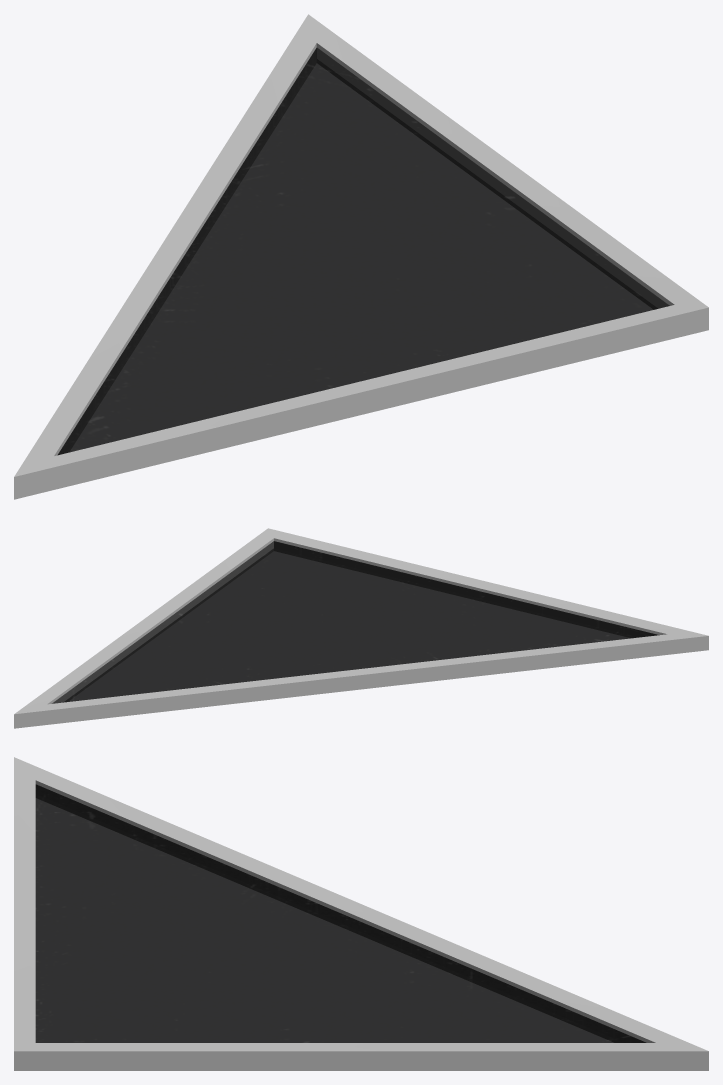
File: glass_2x2_triangle.fbx
3 renders of one model, top to bottom at view 1: azimuth 30°, elevation 25°; view 2: azimuth 150°, elevation 25°; view 3: azimuth 270°, elevation 25°, orthographic. The views are drawn at different scales.
Visible parts, largest first — view 1: glass_2x2_triangle; view 2: glass_2x2_triangle; view 3: glass_2x2_triangle.
Part boxes in pixels (x1=…): glass_2x2_triangle: x1=14, y1=14, x2=708, y2=499; glass_2x2_triangle: x1=14, y1=528, x2=708, y2=728; glass_2x2_triangle: x1=14, y1=757, x2=708, y2=1070.
Size of the model in its own units: 80.09 by 2.5 by 79.97.
